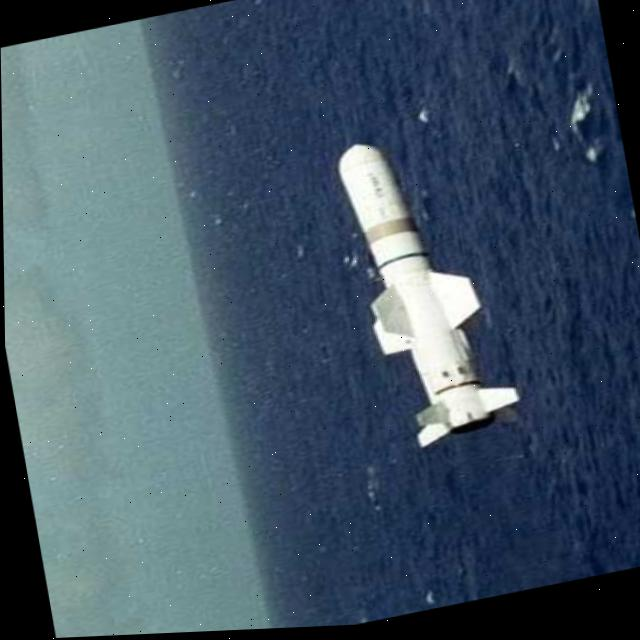missile: (327, 124, 507, 464)
